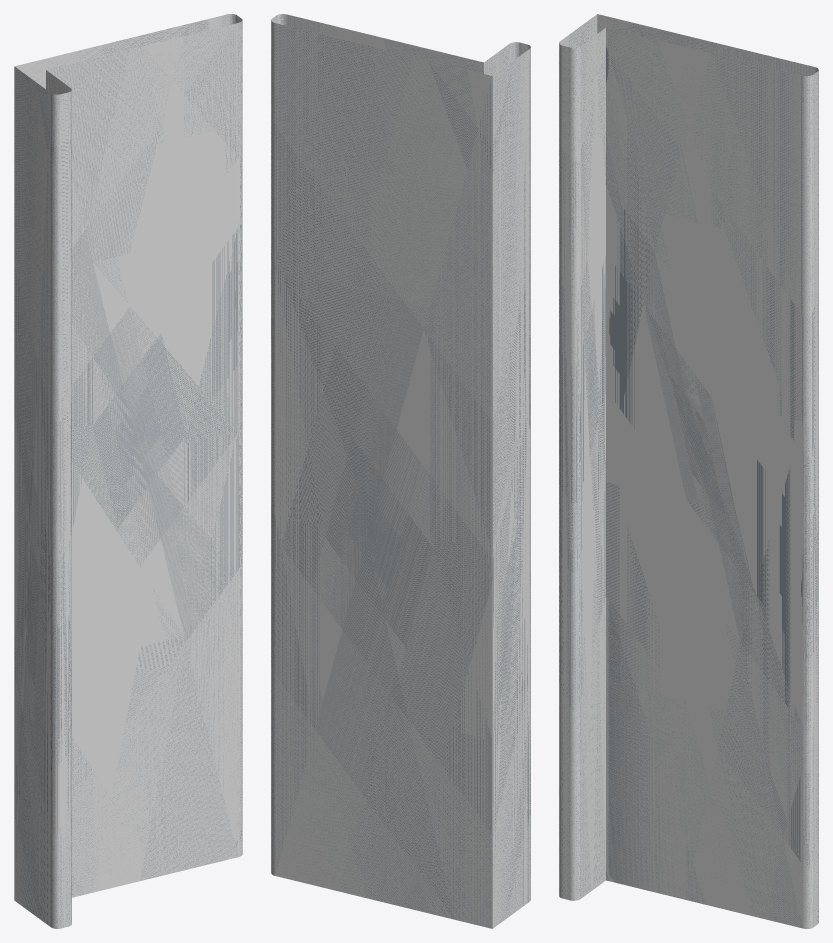
File: PW_CornerFixElem_ds_T2_035x110x010x400.dae
The picture shows the model from 3 angles, left to right: view 1: azimuth 30°, elevation 25°; view 2: azimuth 150°, elevation 25°; view 3: azimuth 330°, elevation 25°; orthographic projection. The views are drawn at different scales.
Parts seen in each view (by area): view 1: group_0; view 2: group_0; view 3: group_0.
Boxes of the visible parts, box(x1,y1,x2,y2) form: group_0: box(14, 14, 242, 928); group_0: box(271, 14, 530, 928); group_0: box(559, 14, 818, 928).
Size of the model in its own units: 43.31 by 13.78 by 157.
